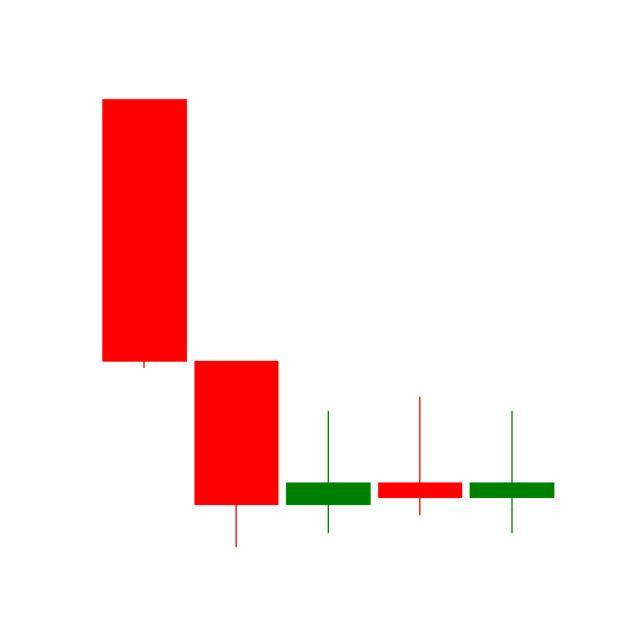Spinning Top: (466, 410, 559, 536)
